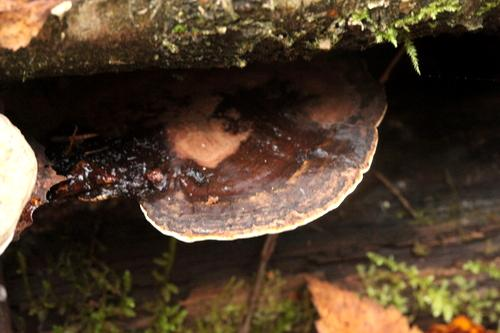Ganoderma - Fruit Body: (28, 59, 393, 243)
